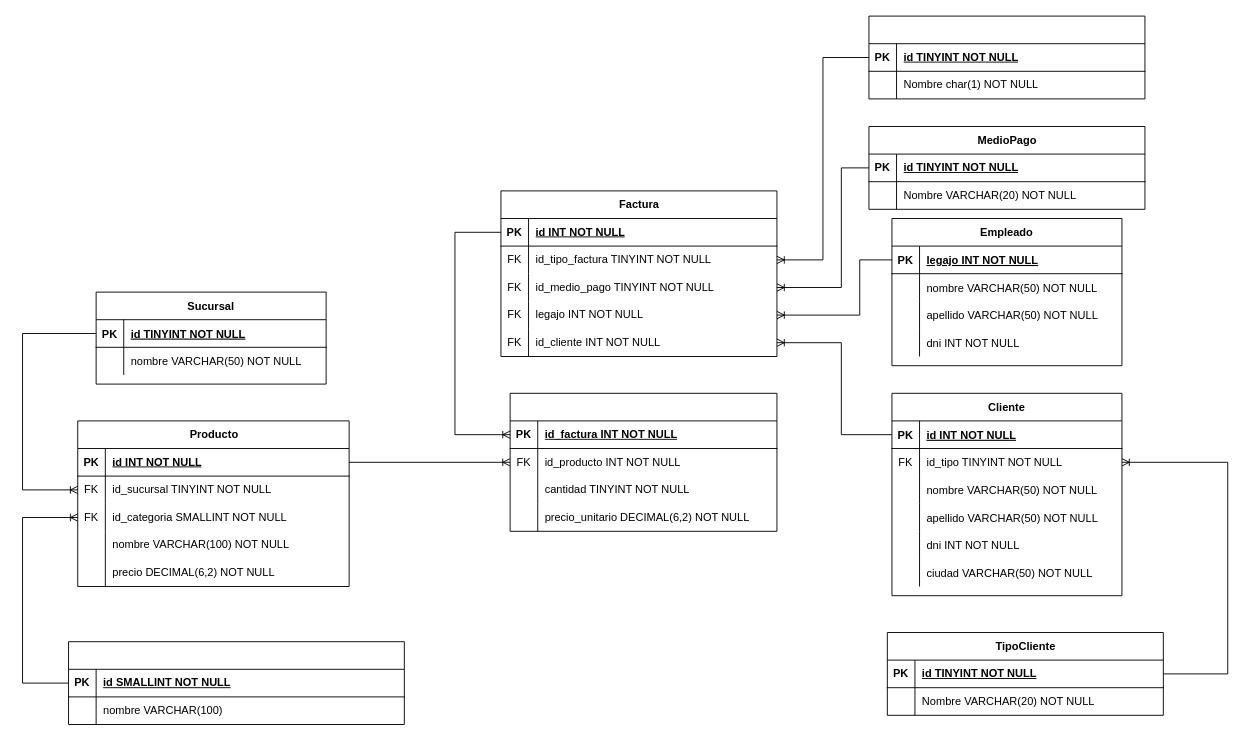
Image size: 1251x741. Some labels were removed from this diagram. Each missing label, with the box of its shape:
CategoriaProducto: (68, 641, 404, 724)
FacturaProducto: (509, 392, 777, 531)
TipoFactura: (868, 15, 1145, 99)
